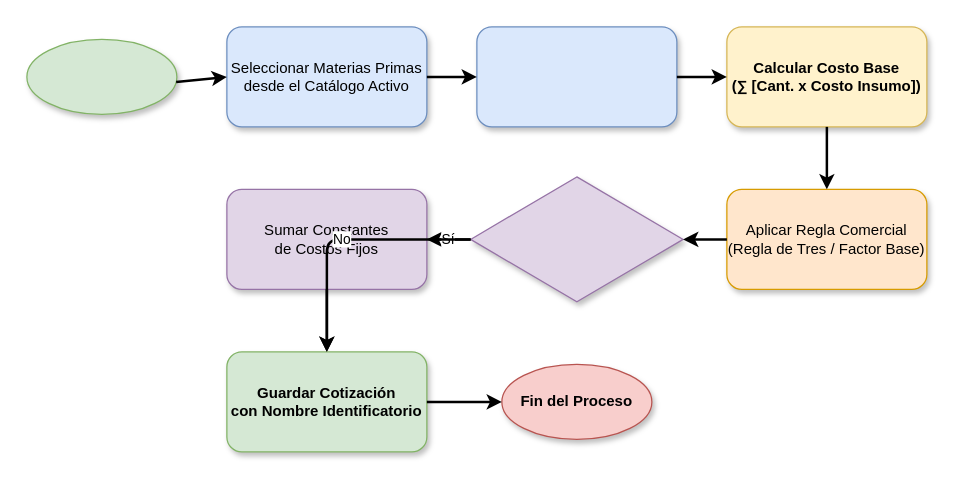
This 956x483 diagram has some shape labels left out. Each missing label, with the centre of its shape:
"Ingresar Cantidades Requeridas por Insumo" goes at point (577, 78).
"Inicio: Nueva Cotización" goes at point (102, 78).
"¿Incluir Costos Fijos (Gas/Luz)?" goes at point (577, 241).
